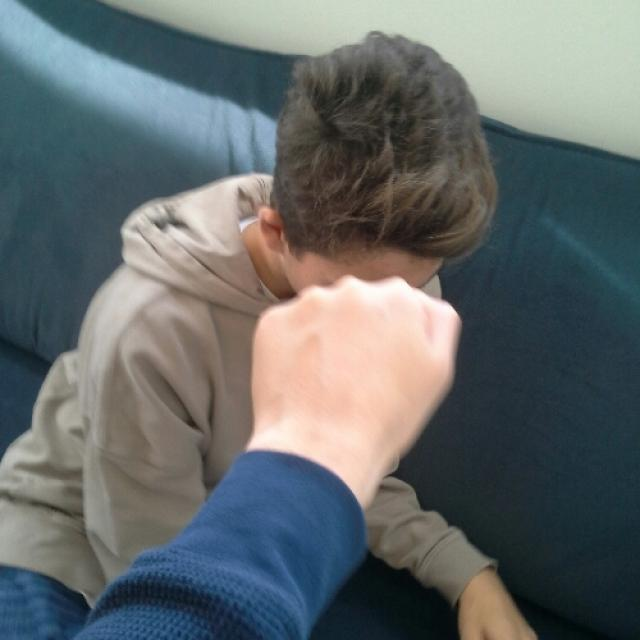rock: (248, 273, 462, 472)
